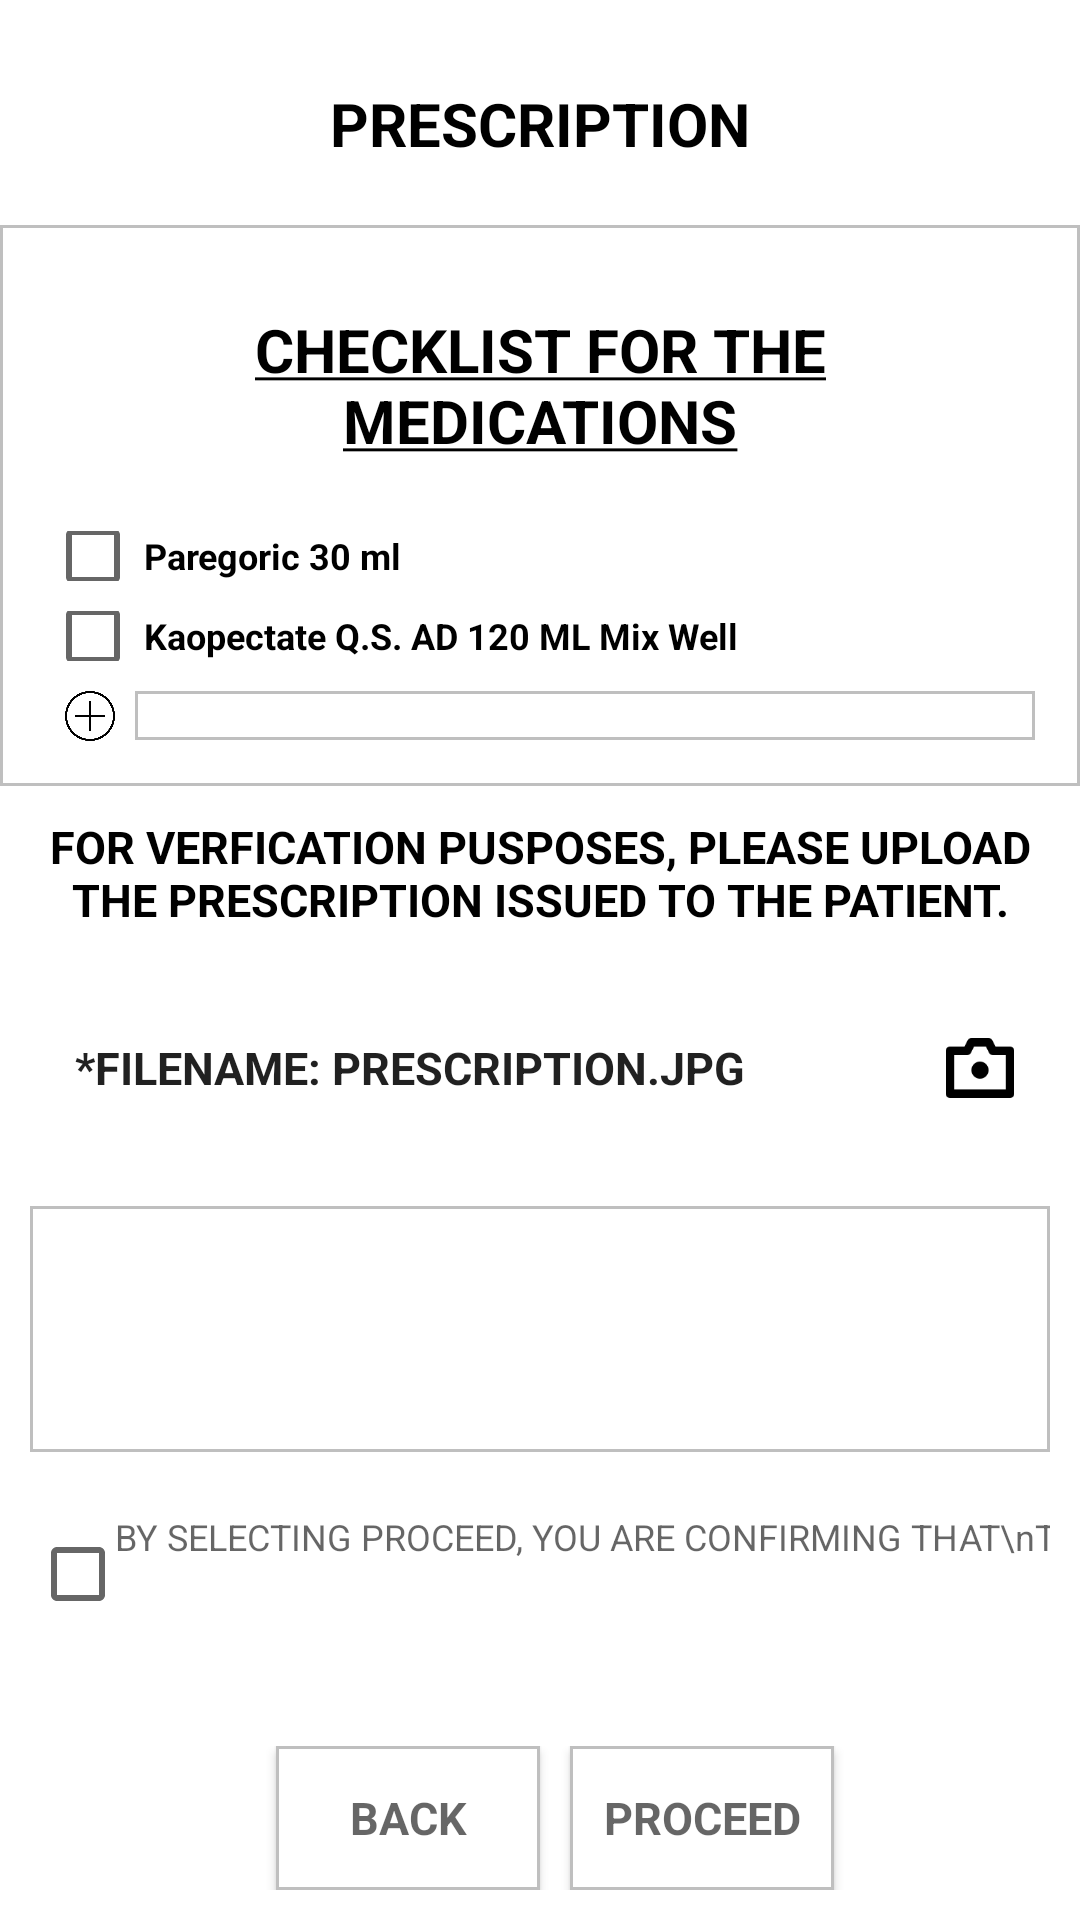

Icons on this 1080px×1920px Android screen, each with the point to tap as (x=x, y=y):
add prescription: (x=90, y=716)
scan: (x=980, y=1068)
